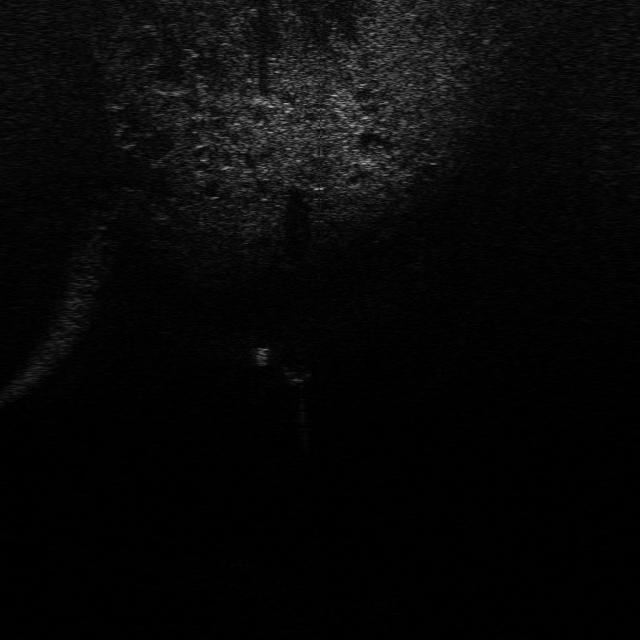cube: (280, 362, 312, 387)
cylinder: (247, 343, 273, 371)
